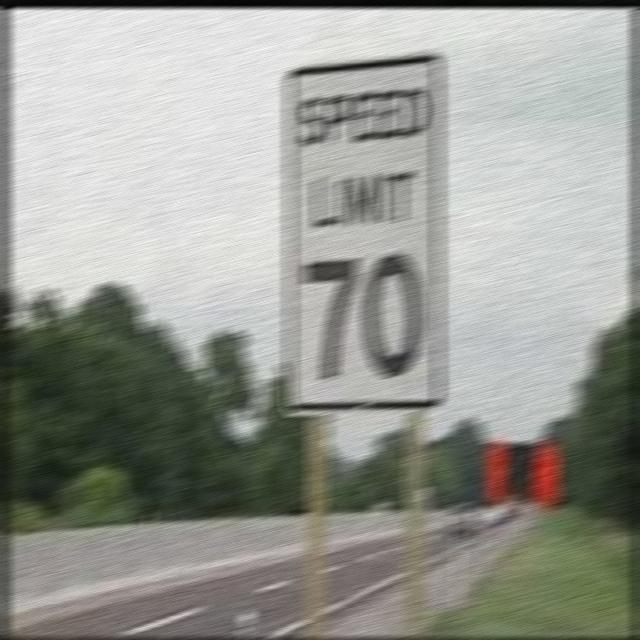speedLimit70: (284, 61, 446, 415)
